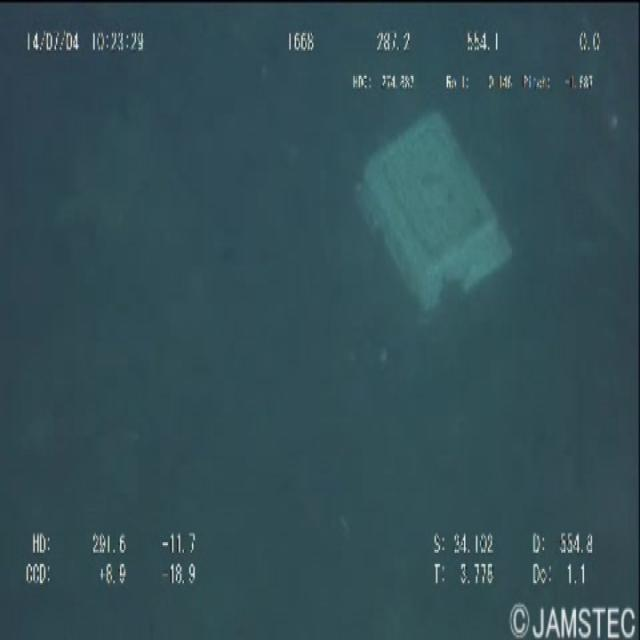Cutlery: (352, 91, 521, 325)
